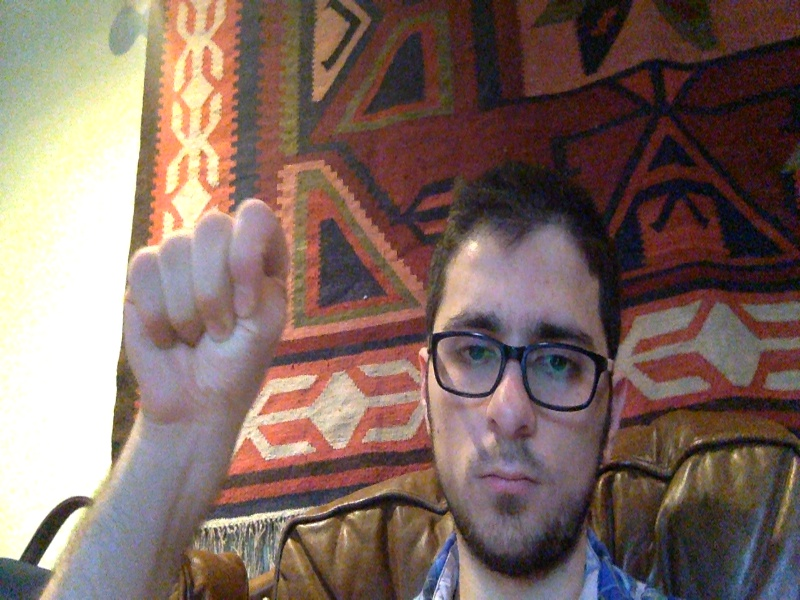0-hand: (123, 199, 289, 426)
